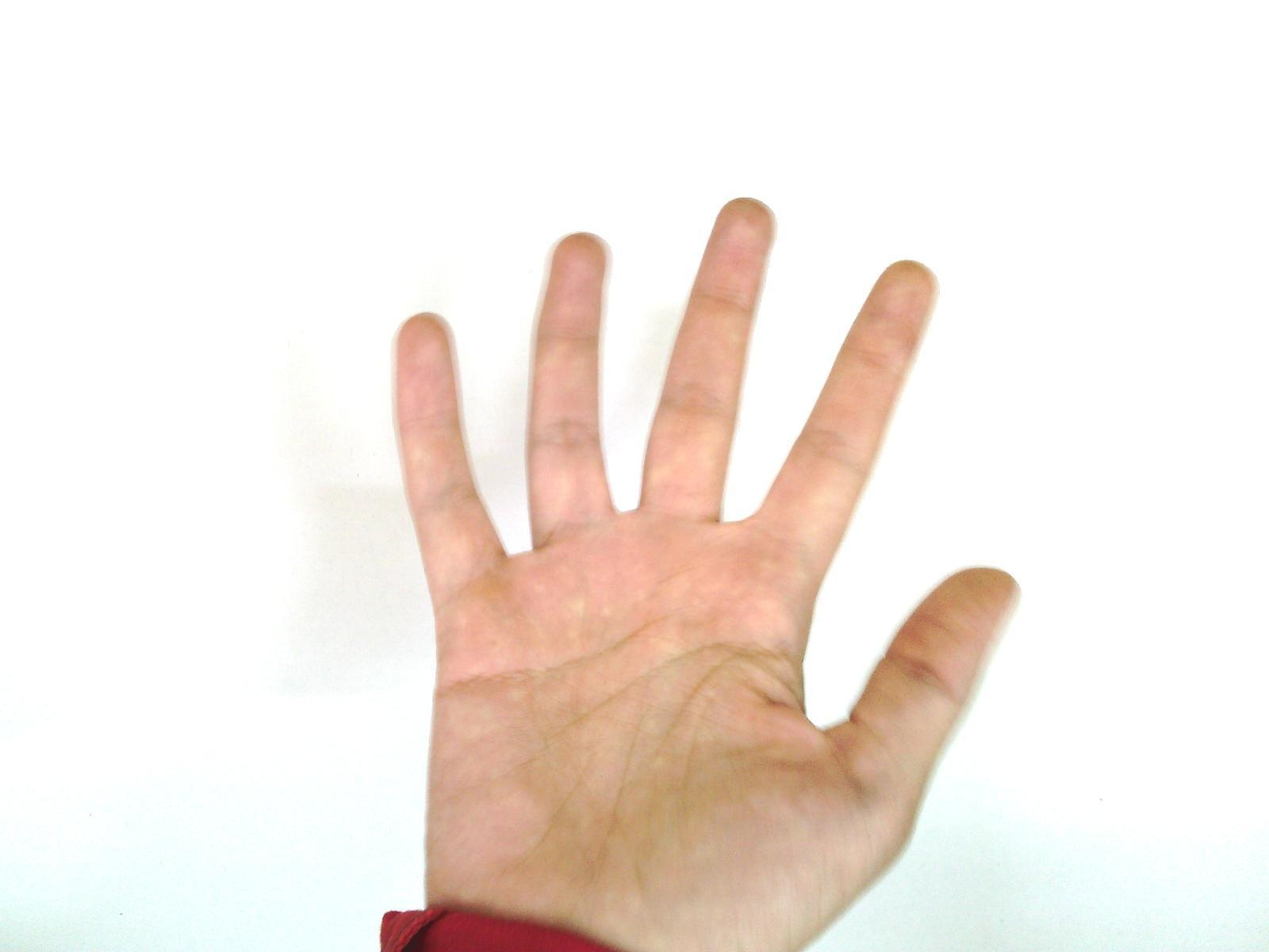open_palm: (382, 196, 1023, 952)
